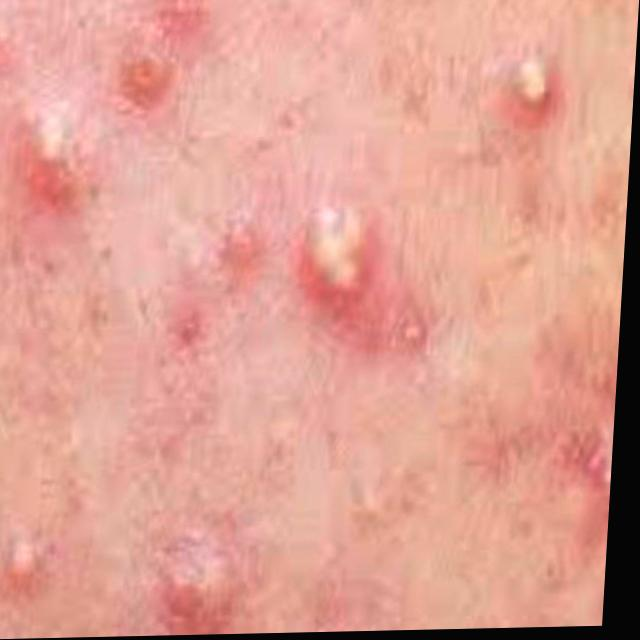pustule: (284, 171, 396, 347), (486, 40, 575, 137), (6, 109, 80, 216), (0, 521, 71, 607)
